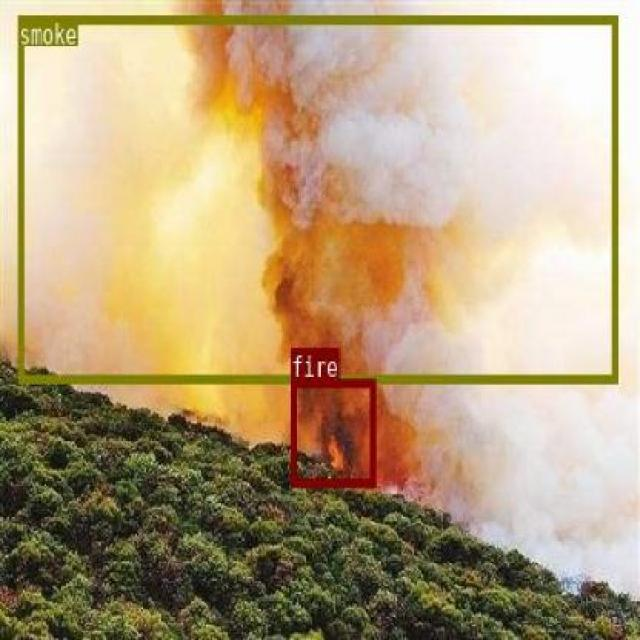fire: (290, 377, 376, 486)
smoke: (17, 15, 617, 382)
